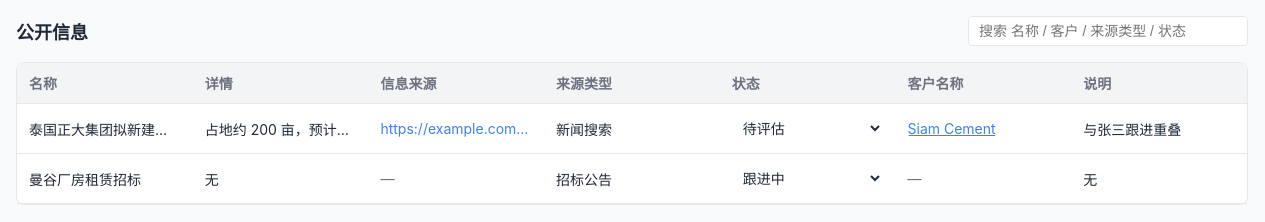
Test case: OpportunityList › filters opportunities by source_type via search input
Expected: the text "泰国正大集团拟新建食品加工厂" is shown, [17,104,193,154]
Step 1. Type "招标" into the search field with test id "search-input" → {"x": 1108, "y": 31}, box [968,16,1248,46]
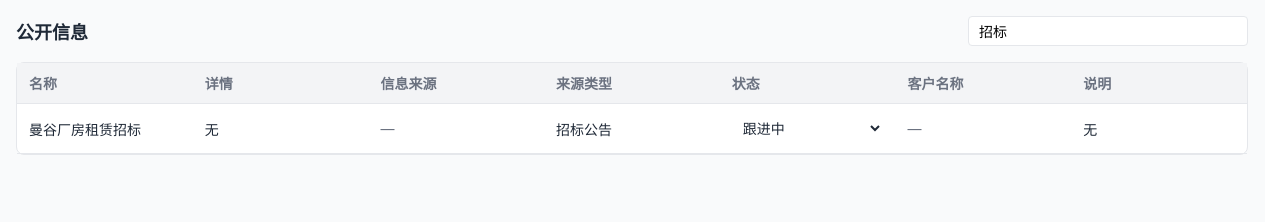
Expected: the text "曼谷厂房租赁招标" is shown, [17,104,193,154]
Now the text "泰国正大集团拟新建食品加工厂" is gone
